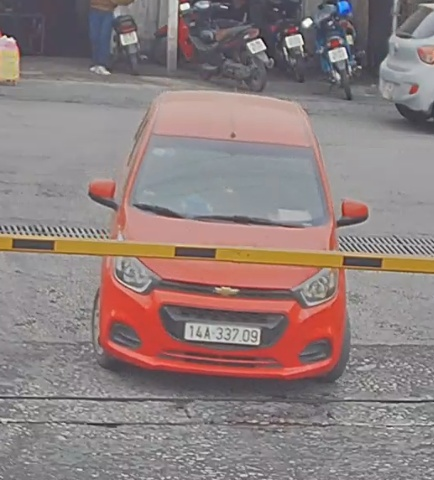vehicle plate: (180, 317, 270, 350)
